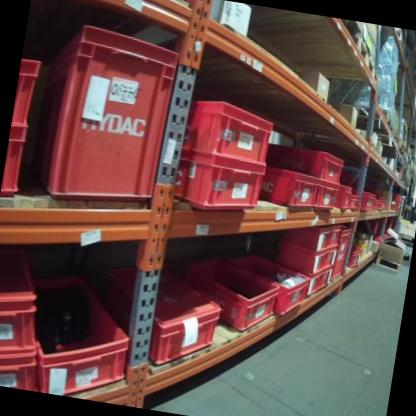pallet: (252, 7, 363, 64), (348, 99, 397, 142), (347, 40, 383, 83)
small_load_carrier: (19, 17, 183, 215), (16, 252, 140, 402), (97, 271, 222, 367), (176, 246, 285, 336), (179, 91, 279, 167), (221, 246, 317, 322), (169, 152, 269, 221), (0, 243, 57, 363), (261, 137, 349, 186), (10, 51, 53, 136), (258, 162, 321, 214), (0, 125, 35, 202), (277, 215, 334, 254), (0, 342, 45, 389), (276, 241, 331, 275), (327, 223, 355, 287), (310, 182, 342, 214), (304, 271, 326, 296), (327, 221, 346, 249), (347, 243, 366, 269), (335, 181, 351, 211), (356, 187, 376, 211), (323, 243, 340, 271), (318, 265, 334, 293), (348, 192, 360, 214)
